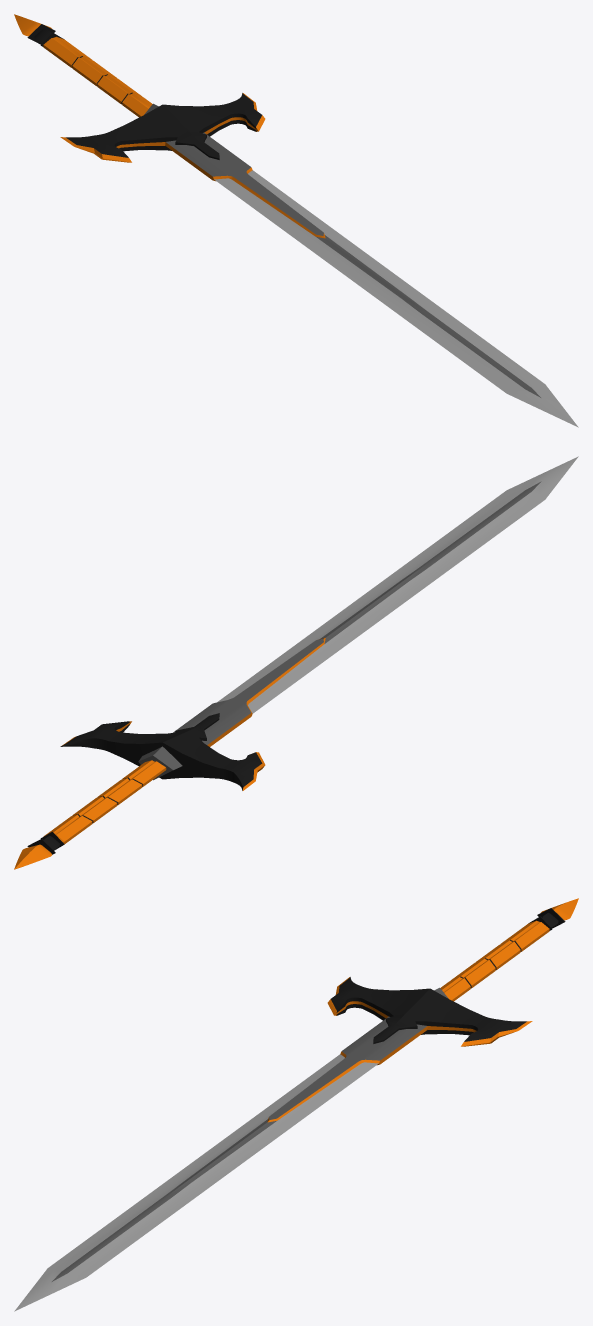
The model's file is blackgoldsword.fbx.
The picture shows the model from 3 angles, top to bottom: view 1: azimuth 30°, elevation 25°; view 2: azimuth 150°, elevation 25°; view 3: azimuth 330°, elevation 25°; orthographic projection.
Parts seen in each view (by area): view 1: sword, handguard, handle; view 2: sword, handguard, handle, handleupper; view 3: sword, handguard, handle.
Boxes of the visible parts, <box> form: sword: <box>165,132,578,427</box>; handguard: <box>60,93,265,162</box>; handle: <box>14,14,152,117</box>; sword: <box>173,456,578,746</box>; handguard: <box>60,713,265,790</box>; handle: <box>14,760,166,869</box>; handleupper: <box>138,746,182,780</box>; sword: <box>14,1016,427,1311</box>; handguard: <box>327,977,532,1046</box>; handle: <box>440,898,578,1001</box>.
Bounding box in the file's own units: 27.05 × 145 × 5.23.
